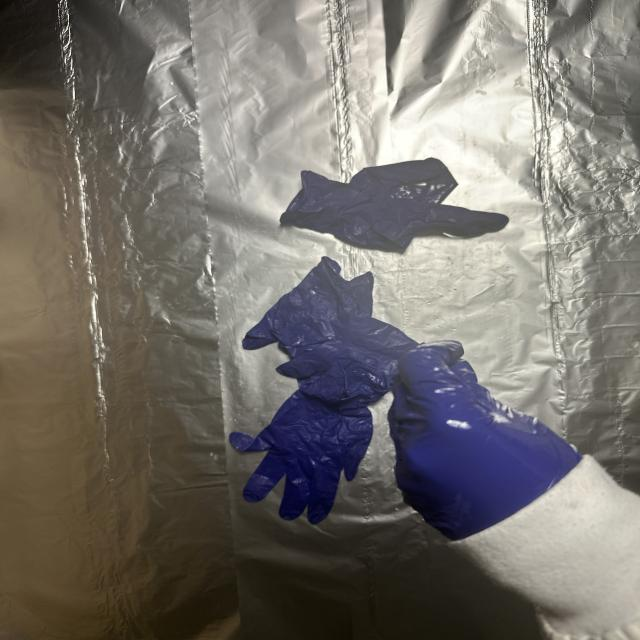gloves_contaminated: (388, 341, 581, 540)
